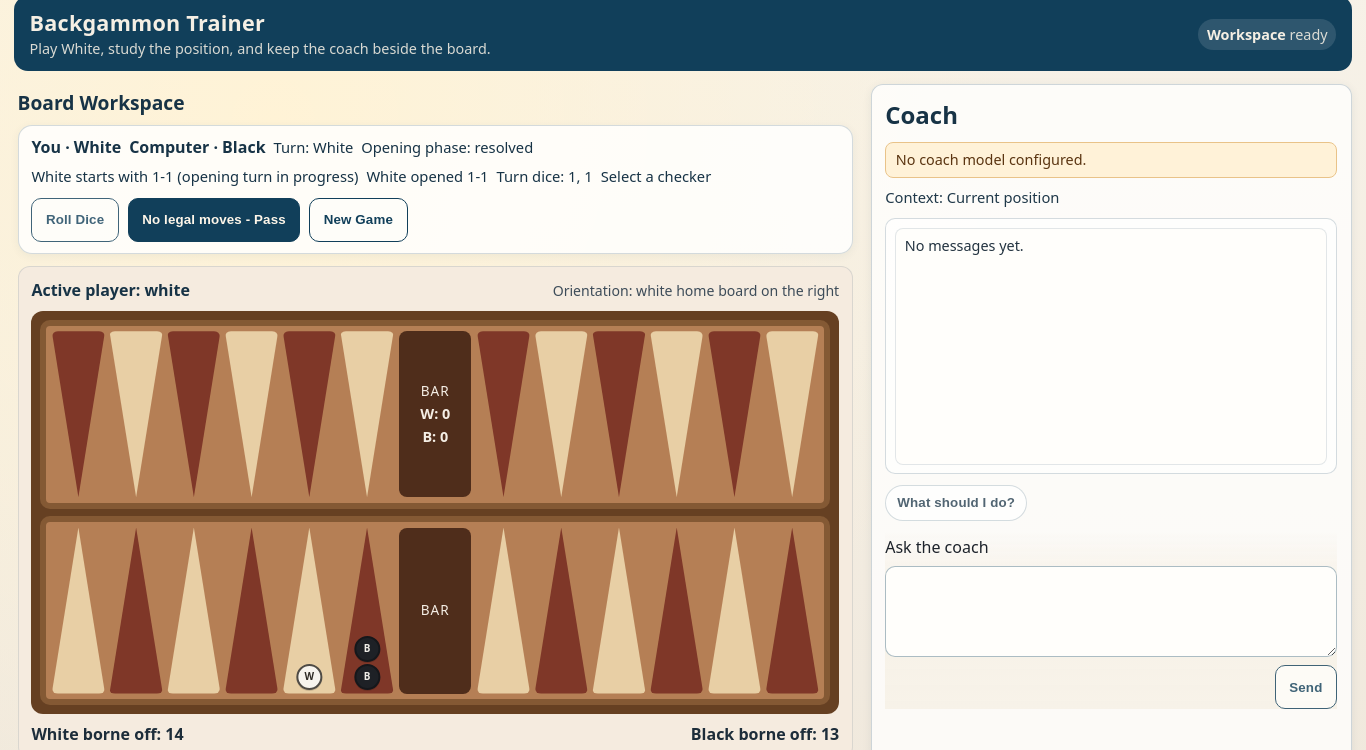
Test: App turn history and inspection › creates opening pass record with resolved opening dice
The width and height of the screenshot is (1366, 750).
Click the button "No legal moves - Pass" at (214, 220), box 128,198 -> 300,242
(page scrolled)
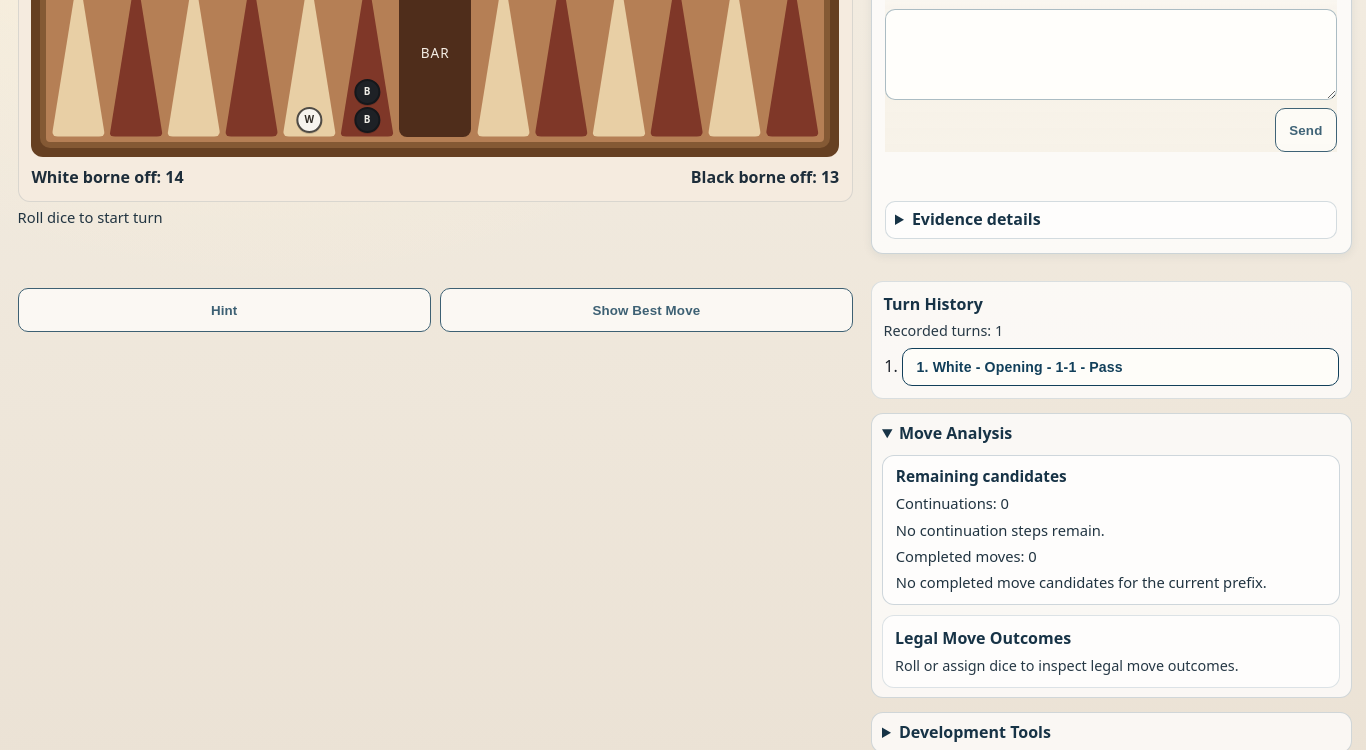
Now the text with test id "turn-history-count" reads "Recorded turns: 1", box 884,321 -> 1003,340
Now the button "1. White - Opening - 1-1 - Pass" is shown, box 902,348 -> 1339,386
